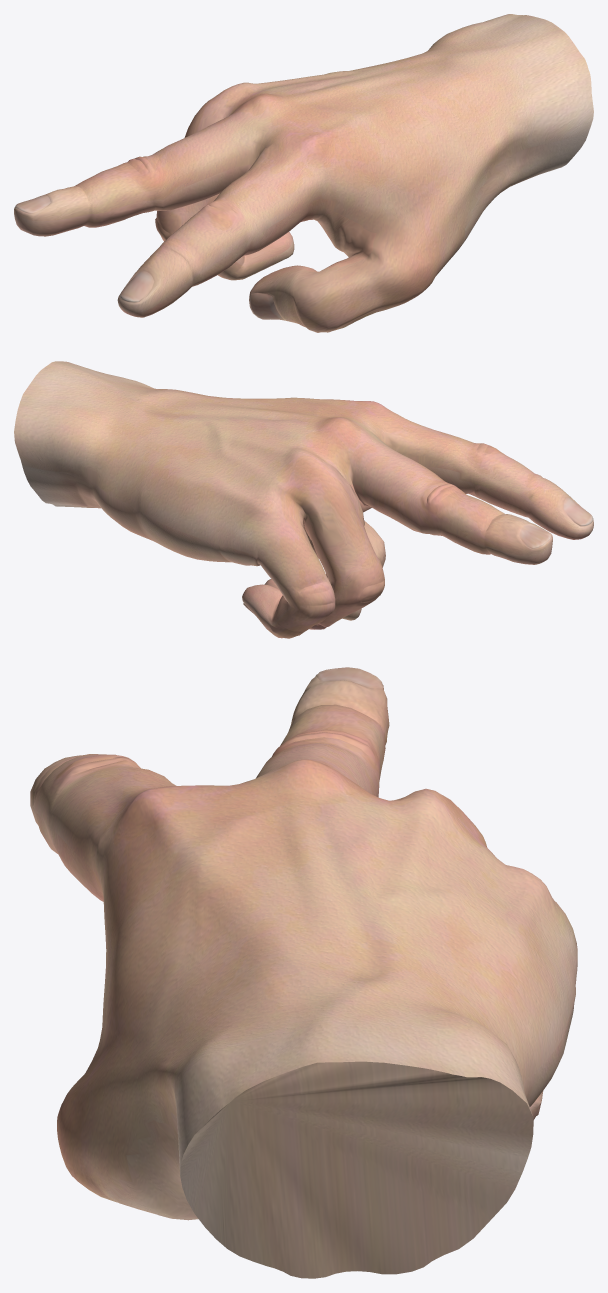
File: hand_26.obj
3 views of the same model, one above another, from view 1: azimuth 30°, elevation 25°; view 2: azimuth 150°, elevation 25°; view 3: azimuth 270°, elevation 25° (orthographic). The views are drawn at different scales.
Parts seen in each view (by area): view 1: Figure_2; view 2: Figure_2; view 3: Figure_2.
Part boxes in pixels (x1=…): Figure_2: x1=14, y1=14, x2=593, y2=332; Figure_2: x1=14, y1=361, x2=593, y2=638; Figure_2: x1=30, y1=667, x2=577, y2=1278.
Bounding box in the file's own units: 0.8954 × 0.3436 × 0.4178.
2 materials, 2 textured.
